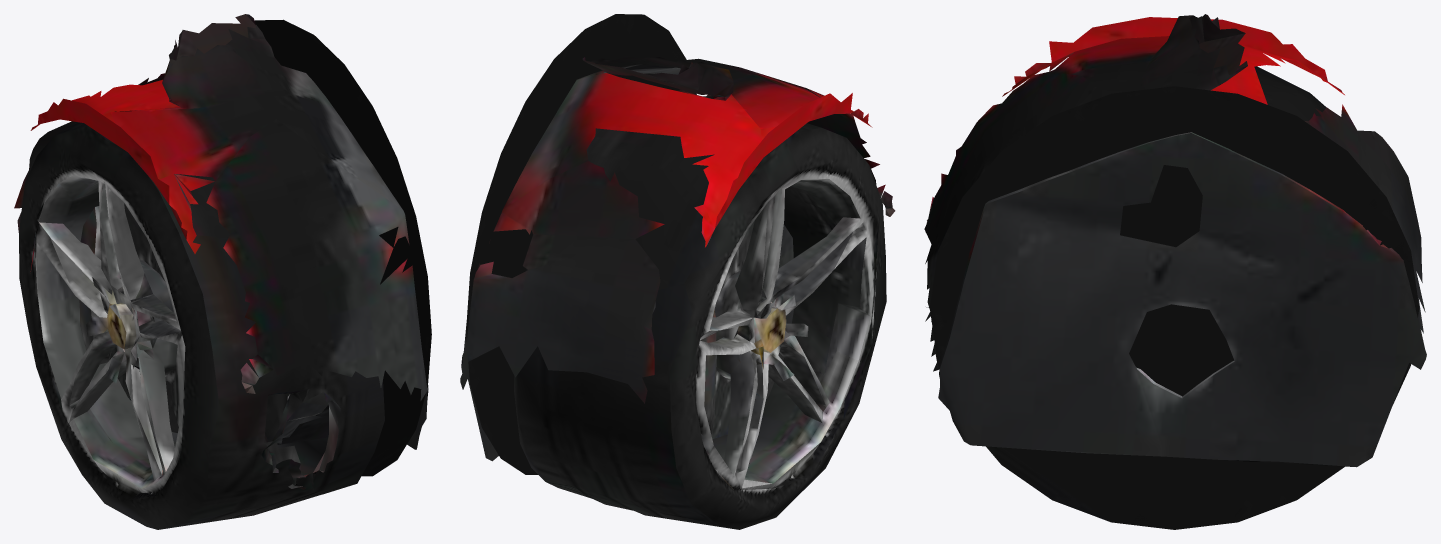
File: red_sports_meshy_wheel_RL.glb
3 renders of one model, left to right at view 1: azimuth 30°, elevation 25°; view 2: azimuth 150°, elevation 25°; view 3: azimuth 270°, elevation 25°, orthographic. The views are drawn at different scales.
Visible parts, largest first — view 1: red_sports_meshy_wheel_RL; view 2: red_sports_meshy_wheel_RL; view 3: red_sports_meshy_wheel_RL.
Part boxes in pixels (bbox=[...]): red_sports_meshy_wheel_RL: bbox=[14, 14, 431, 529]; red_sports_meshy_wheel_RL: bbox=[460, 14, 895, 529]; red_sports_meshy_wheel_RL: bbox=[924, 14, 1426, 529].
Bounding box in the file's own units: 0.4453 × 0.8696 × 0.8688.
Materials: 1 (1 with a texture image).
